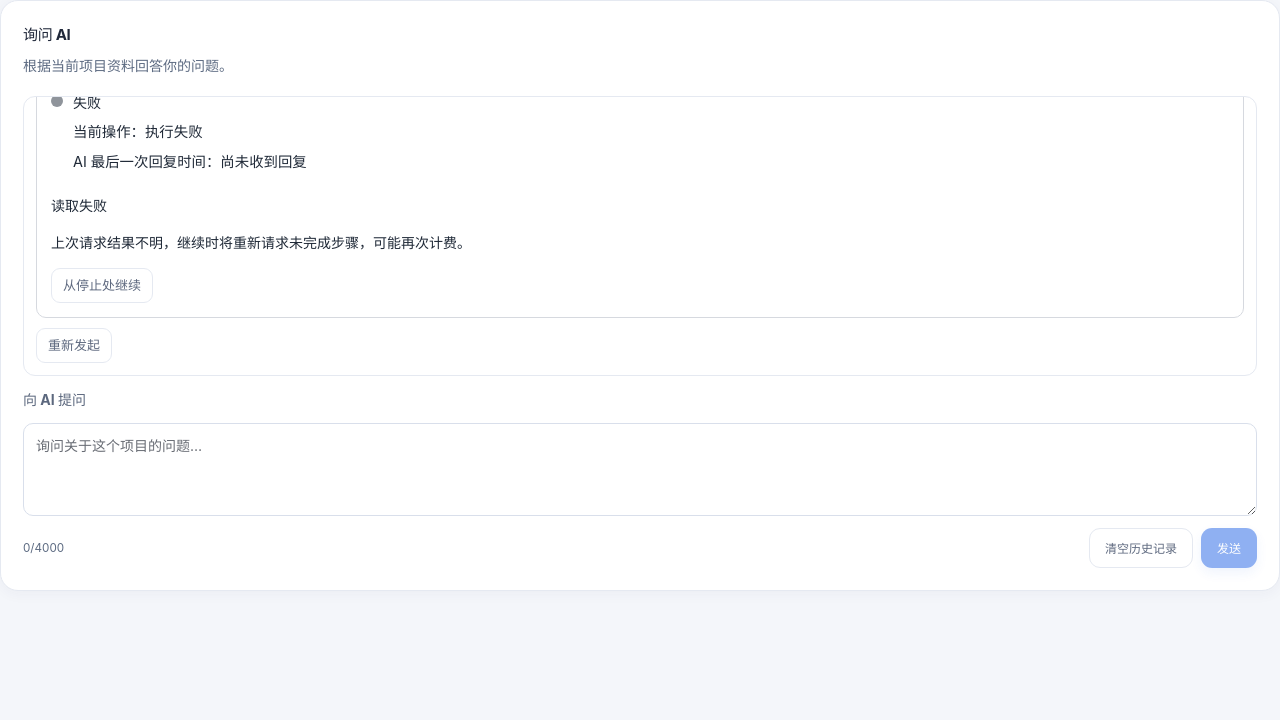
it: does not restore deleted history when a pre-clear background read completes late
(page scrolled)
Expected: the button "重新发起" is shown, x1=36 y1=328 x2=112 y2=363
Click the button "清空历史记录": x=1141, y=548 x1=1089 y1=528 x2=1193 y2=568
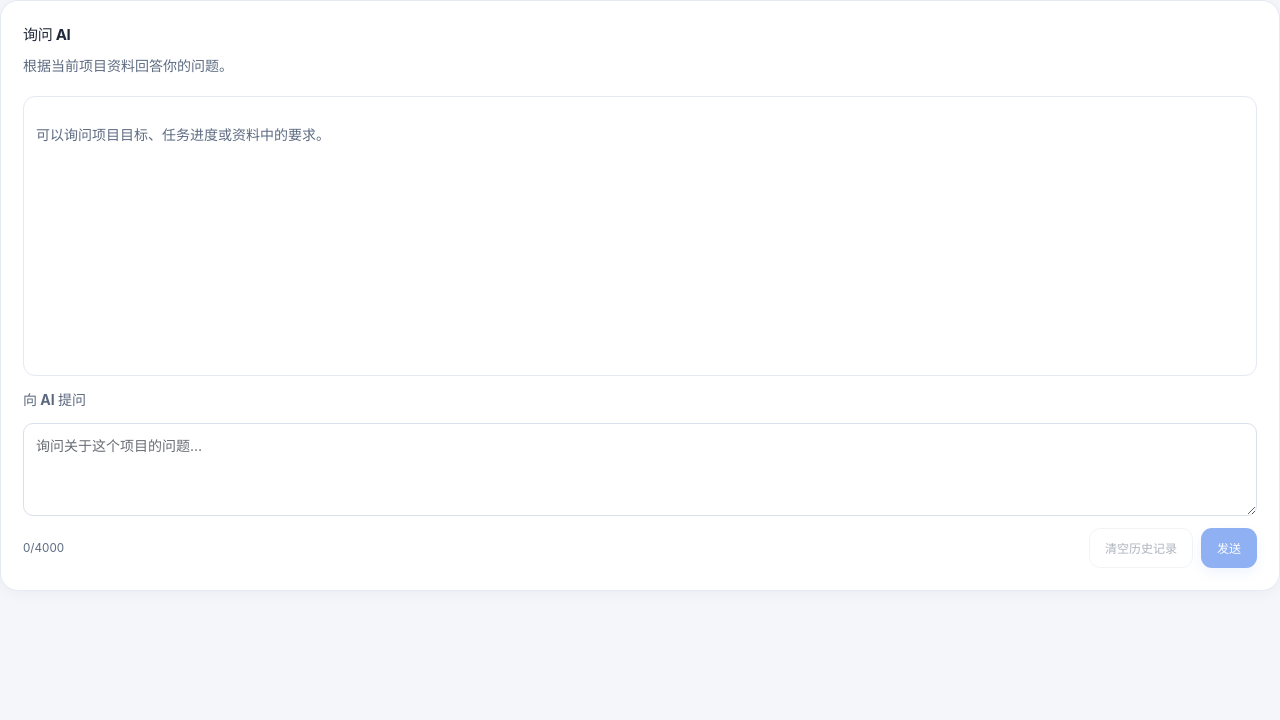
Result: the text "可以询问项目目标、任务进度或资料中的要求。" is shown at x1=36 y1=126 x2=330 y2=143
